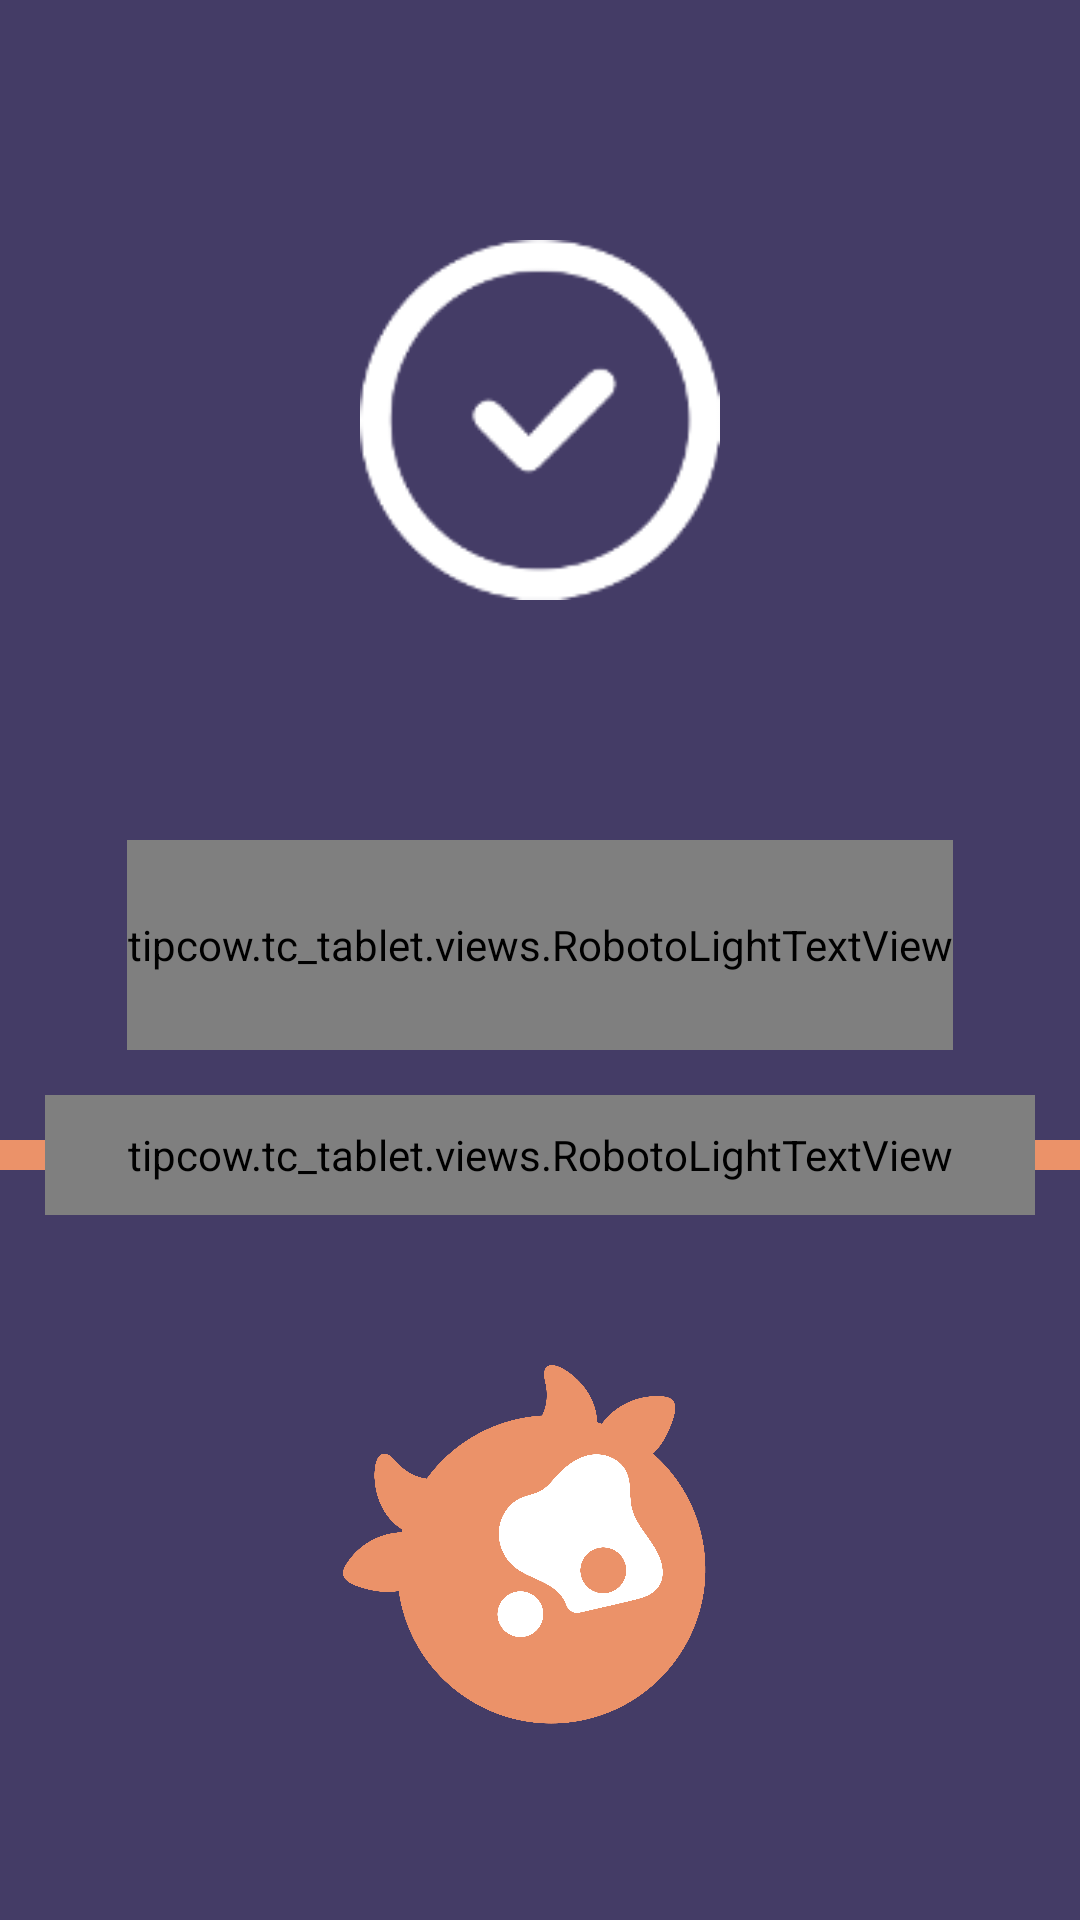

Named icons in this screenshot (1080w x 1920h) and their bounding boxes, (x1, y1, x2, y2):
checkmark circle scaled: (360, 240, 720, 600)
